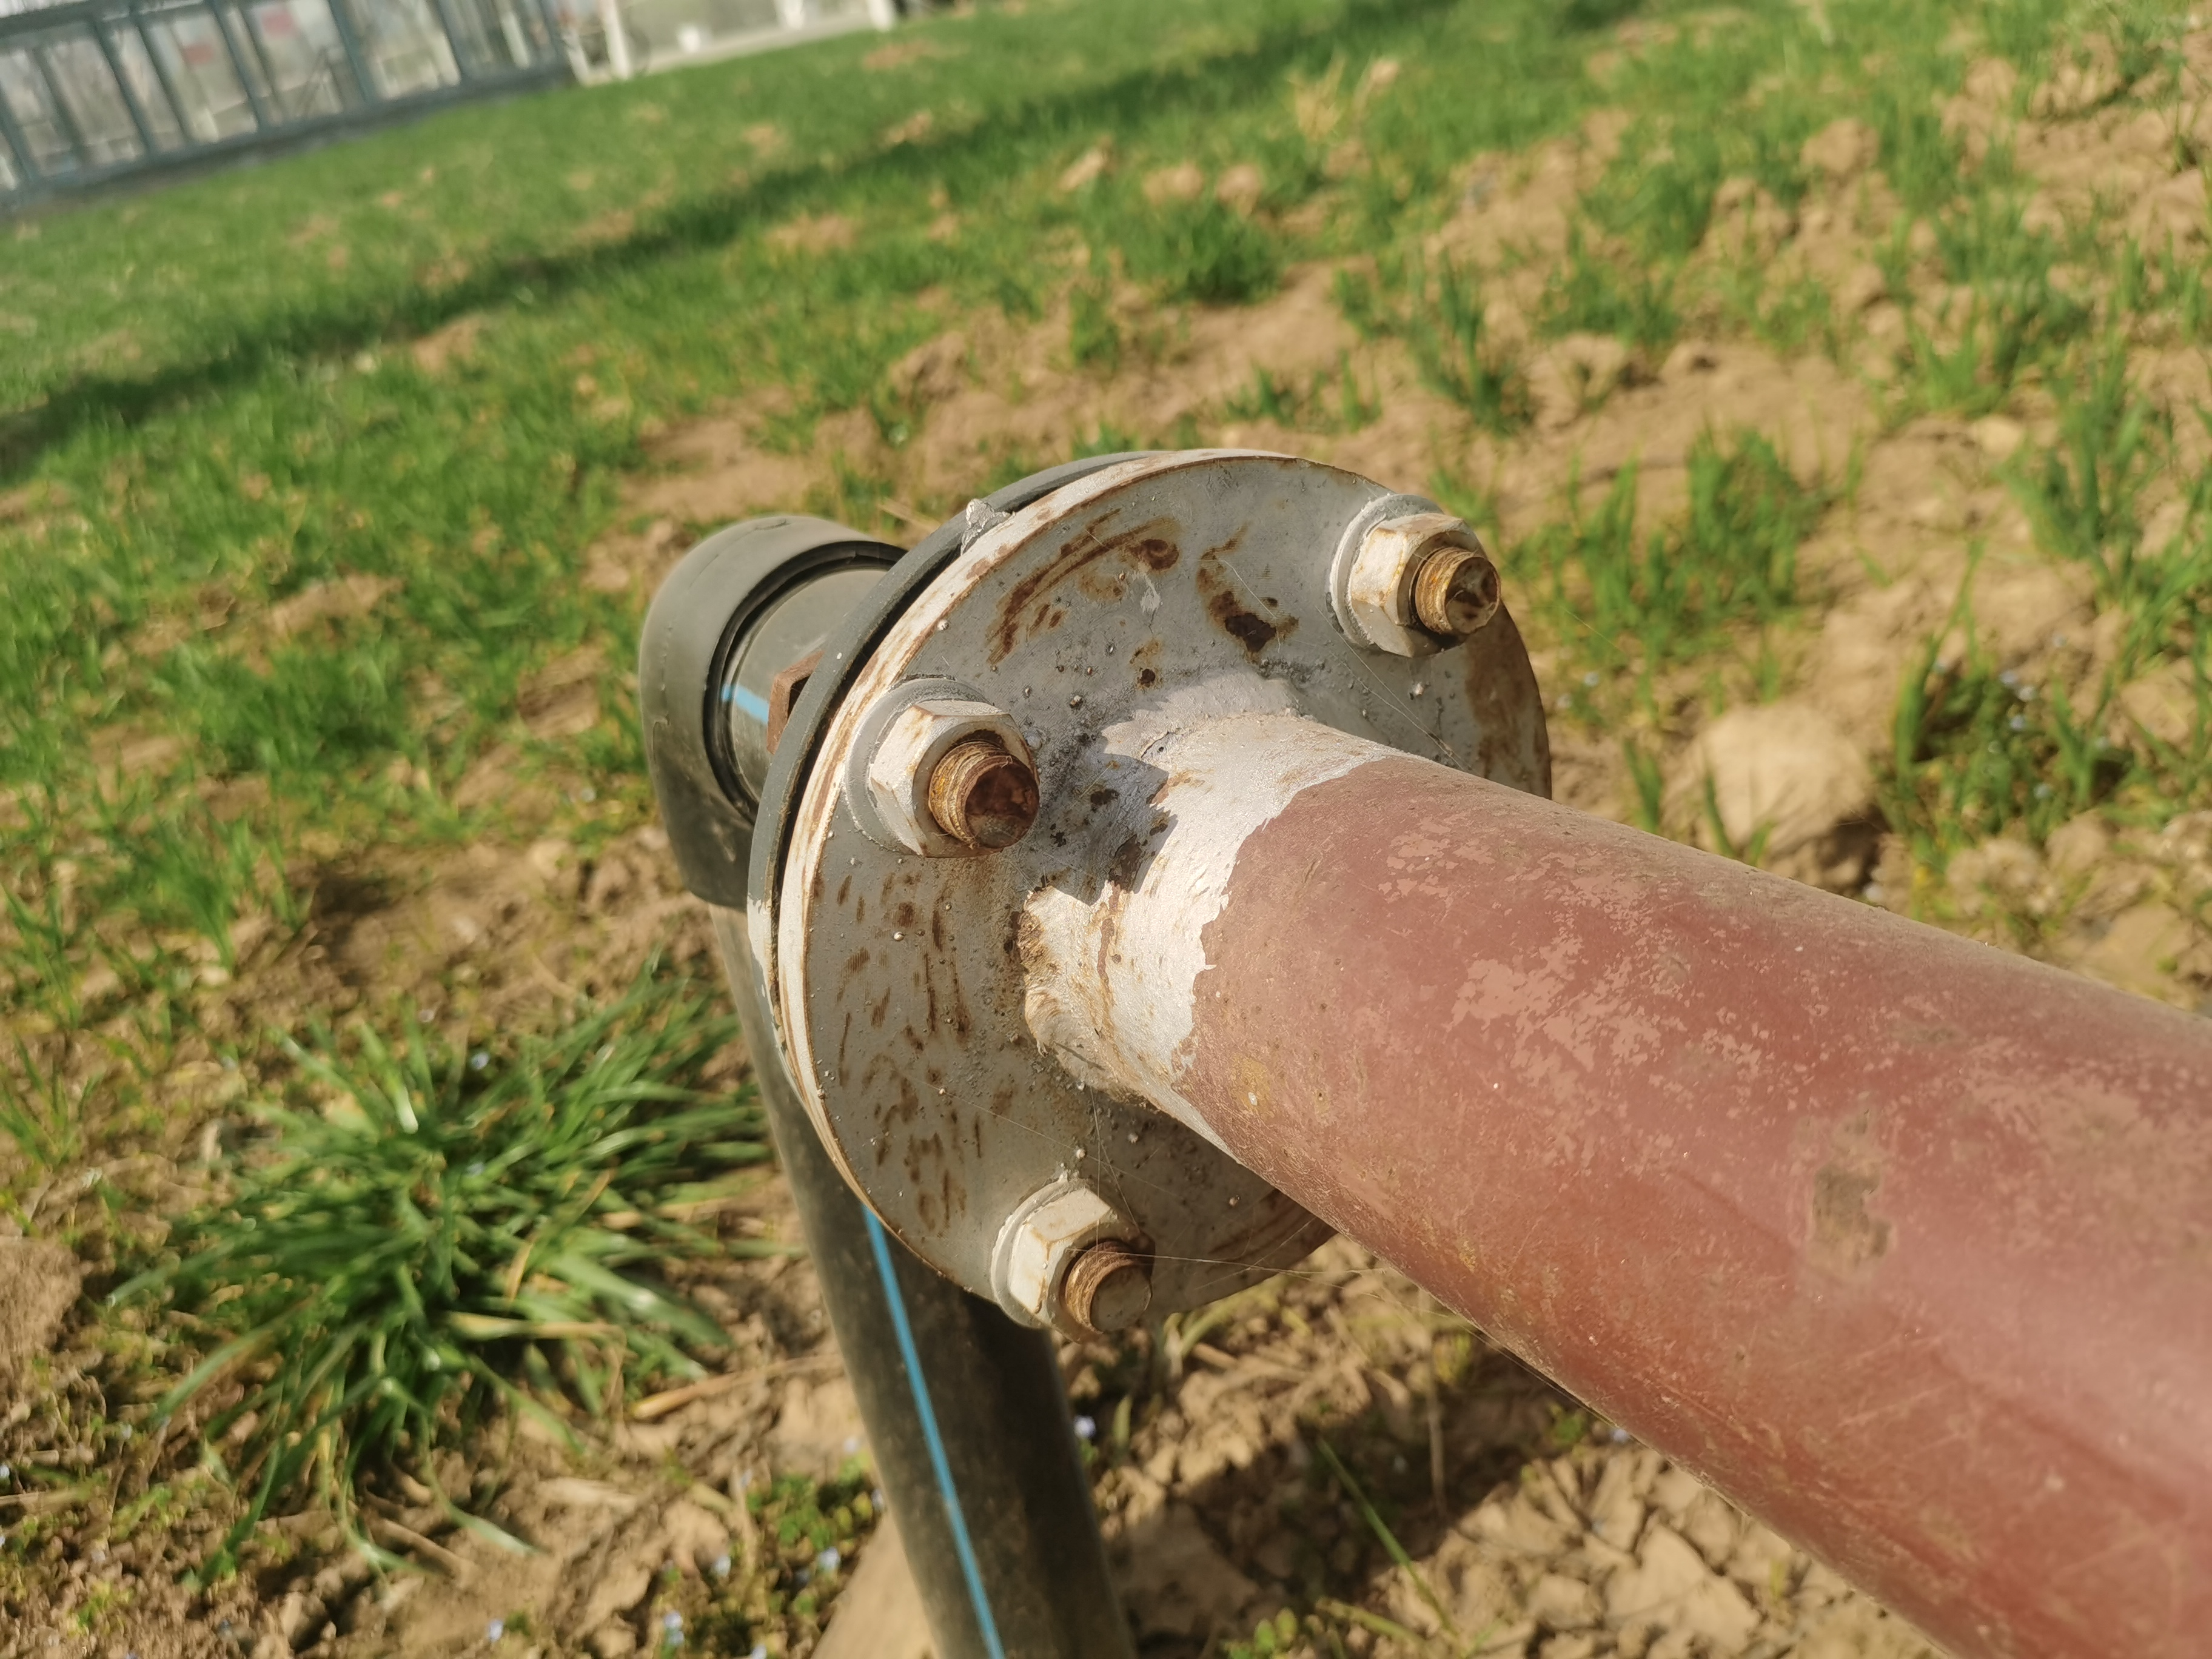bolt_b: (866, 692, 1047, 861), (1007, 1187, 1158, 1342), (1346, 509, 1501, 660)
